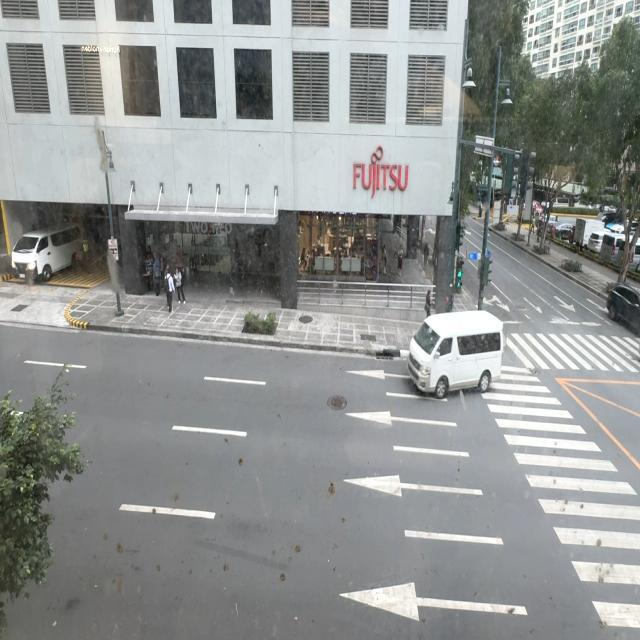waiting: (424, 288, 432, 318)
